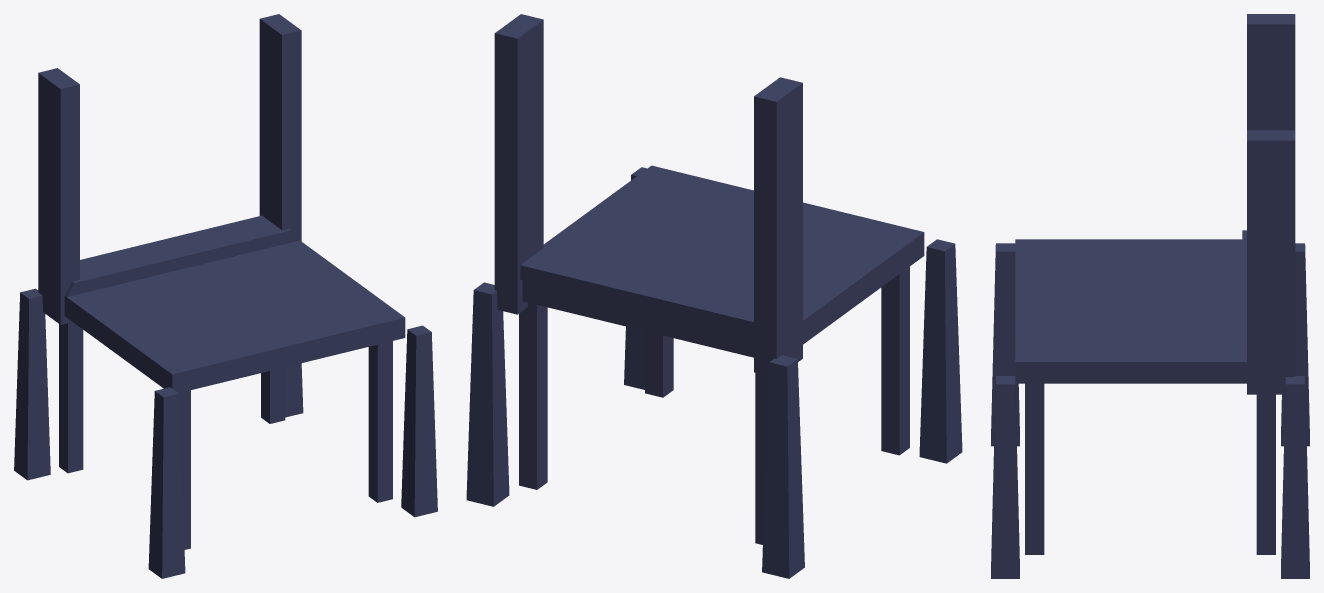
File: chair.fbx
3 renders of one model, left to right at view 1: azimuth 30°, elevation 25°; view 2: azimuth 150°, elevation 25°; view 3: azimuth 270°, elevation 25°, orthographic. The views are drawn at different scales.
Parts seen in each view (by area): view 1: Chair; view 2: Chair; view 3: Chair.
Part boxes in pixels (<box>): Chair: <box>14,14,437,578</box>; Chair: <box>466,14,962,578</box>; Chair: <box>991,14,1309,578</box>.
Bounding box in the file's own units: 0.71 × 0.98 × 0.66.
